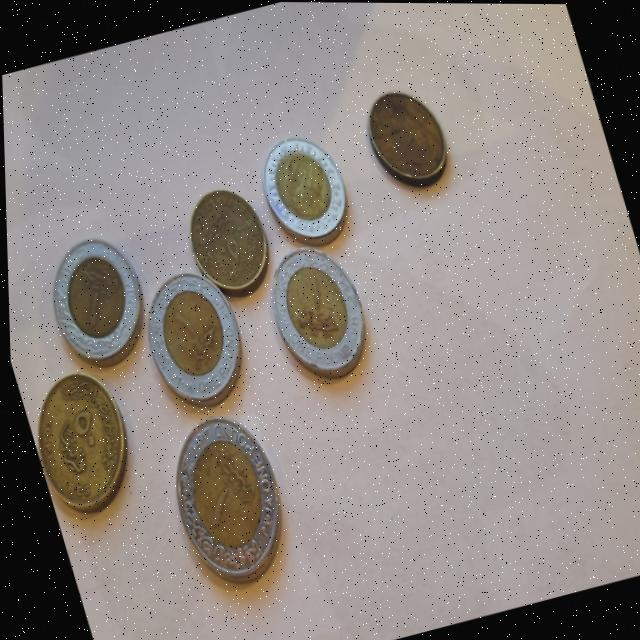Half Pound: (12, 348, 151, 523), (349, 65, 464, 203), (165, 172, 282, 307)
One Pound: (152, 412, 300, 595), (253, 239, 380, 393), (239, 120, 362, 264), (136, 269, 257, 412), (42, 234, 147, 362)
